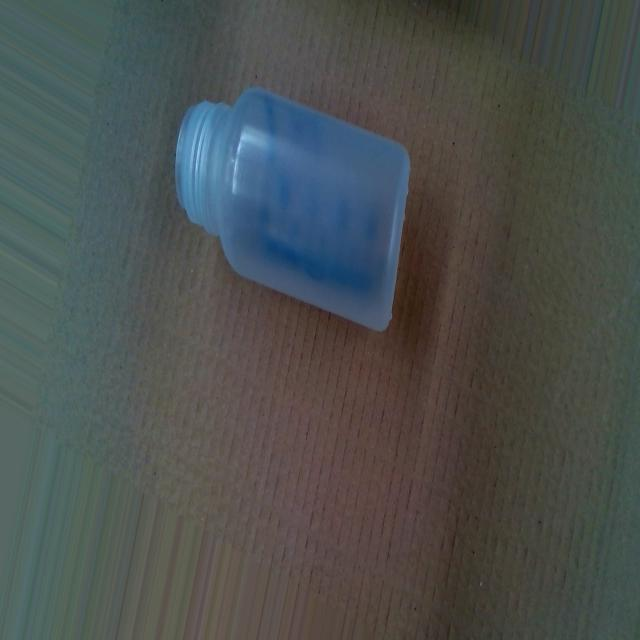bottle: (172, 78, 415, 340)
